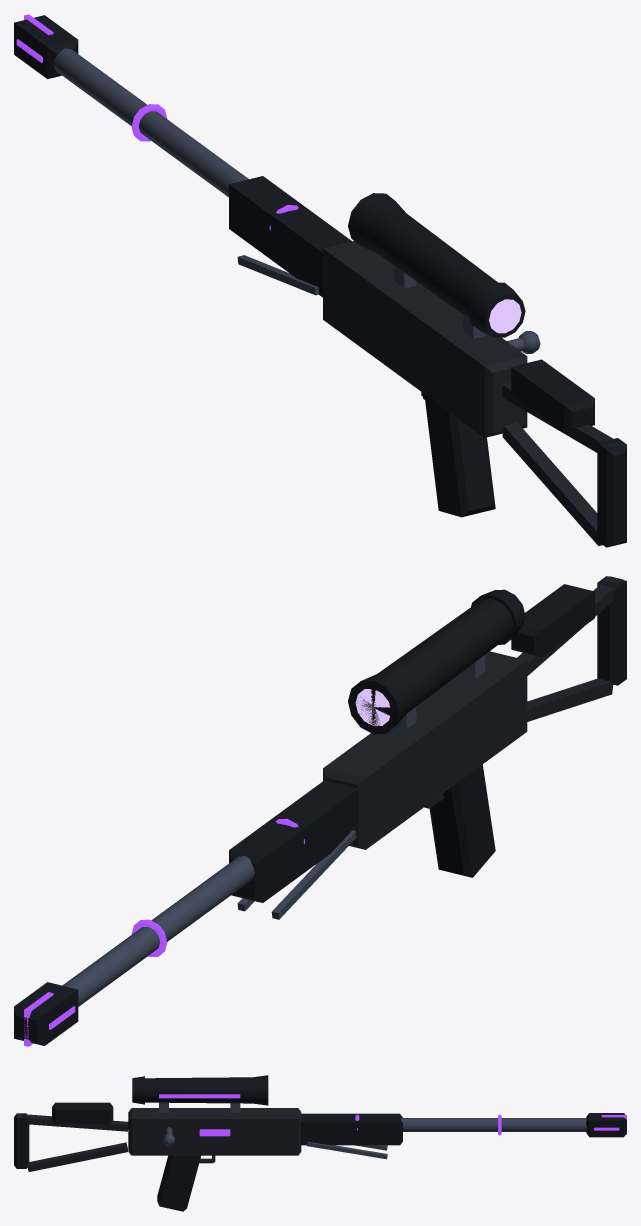
The model's file is weapon_void_eye.glb.
3 renders of one model, top to bottom at view 1: azimuth 30°, elevation 25°; view 2: azimuth 150°, elevation 25°; view 3: azimuth 270°, elevation 25°, orthographic. The views are drawn at different scales.
Visible parts, largest first — view 1: weapon_void_eye; view 2: weapon_void_eye; view 3: weapon_void_eye.
Part boxes in pixels (x1,y1,x2,y2): weapon_void_eye: (14, 14, 626, 547); weapon_void_eye: (14, 576, 626, 1046); weapon_void_eye: (14, 1075, 626, 1211).
Size of the model in its own units: 0.112 by 0.2838 by 1.21.
